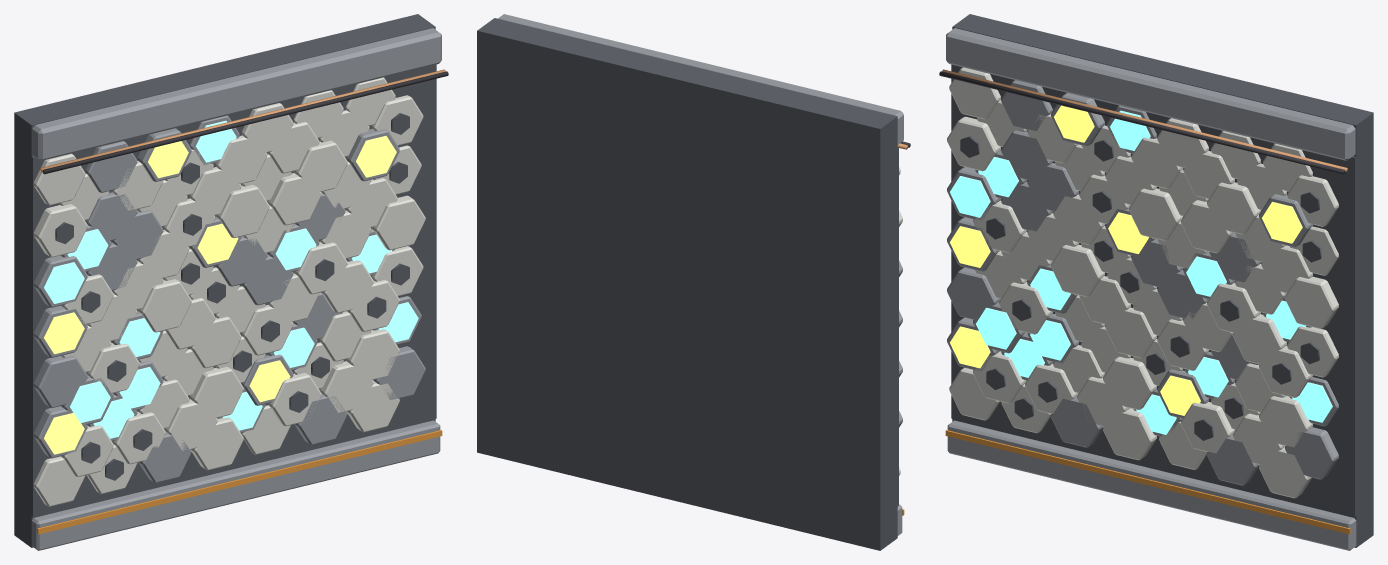
The model's file is wall_hex.glb.
The picture shows the model from 3 angles, left to right: view 1: azimuth 30°, elevation 25°; view 2: azimuth 150°, elevation 25°; view 3: azimuth 330°, elevation 25°; orthographic projection.
Parts seen in each view (by area): view 1: wall_hex; view 2: wall_hex; view 3: wall_hex.
Boxes of the visible parts, box(x1,y1,x2,y2) form: wall_hex: box(14, 14, 448, 550); wall_hex: box(477, 14, 910, 550); wall_hex: box(939, 14, 1373, 550).
Bounding box in the file's own units: 4 × 4 × 0.525.
